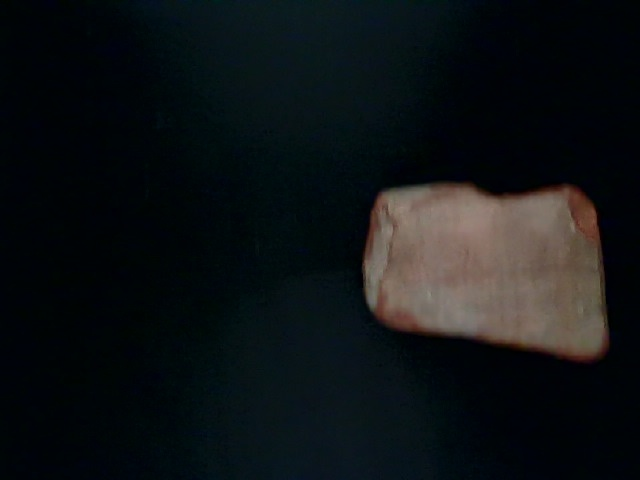KHSLJ: (339, 416, 542, 480)
